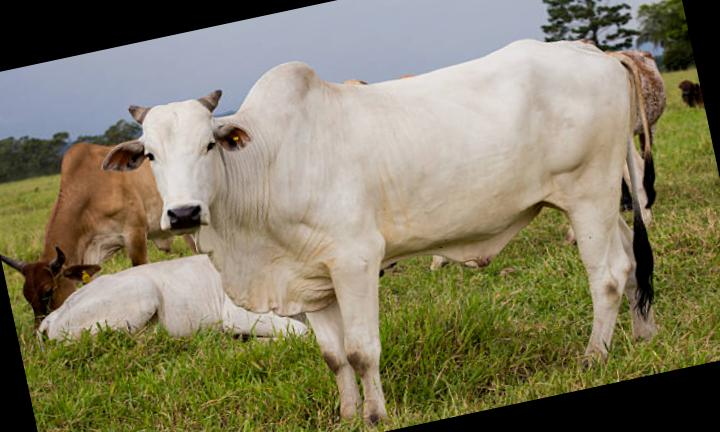Brahman: (103, 40, 655, 420)
